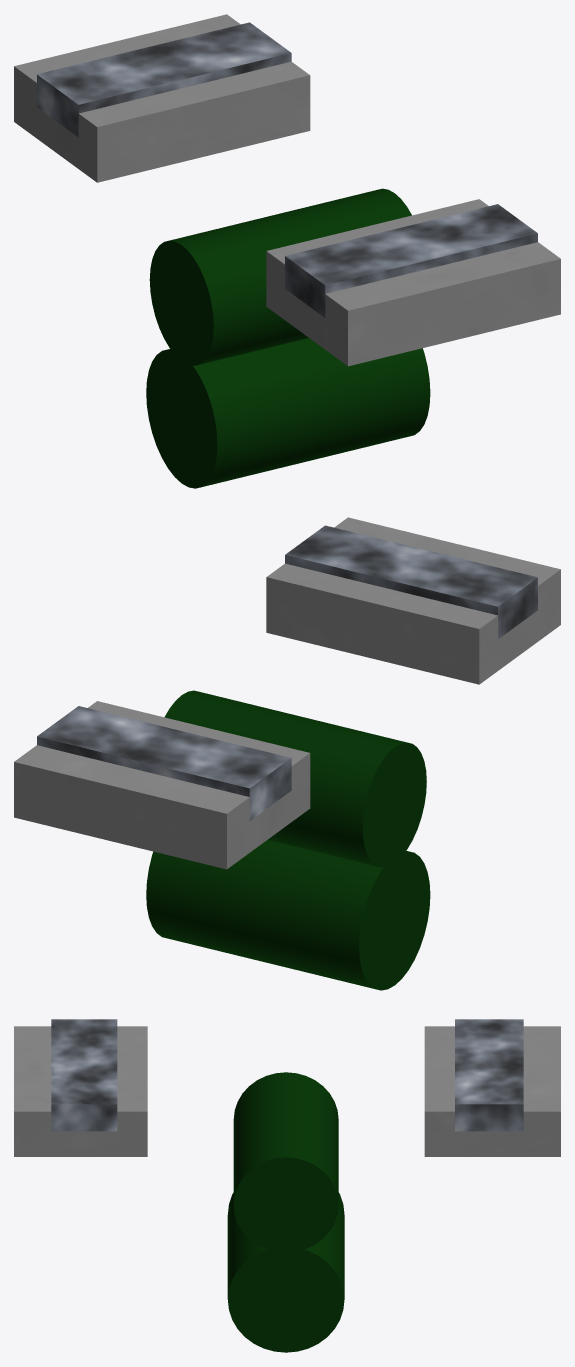
File: track_alt.obj
3 views of the same model, one above another, from view 1: azimuth 30°, elevation 25°; view 2: azimuth 150°, elevation 25°; view 3: azimuth 270°, elevation 25° (orthographic). The views are drawn at different scales.
Visible parts, largest first — view 1: Center, Large_Spine, Track_Alt, Small_Spine; view 2: Center, Large_Spine, Track_Alt, Small_Spine; view 3: Center, Small_Spine, Track_Alt, Large_Spine.
Boxes of the visible parts, bbox=[...] form: Center: bbox=[14, 14, 560, 366]; Large_Spine: bbox=[146, 338, 430, 488]; Track_Alt: bbox=[37, 22, 537, 317]; Small_Spine: bbox=[149, 188, 411, 365]; Center: bbox=[14, 517, 560, 869]; Large_Spine: bbox=[146, 840, 430, 990]; Track_Alt: bbox=[37, 525, 537, 820]; Small_Spine: bbox=[164, 690, 426, 867]; Center: bbox=[14, 1026, 560, 1156]; Small_Spine: bbox=[233, 1072, 338, 1252]; Track_Alt: bbox=[51, 1019, 523, 1131]; Large_Spine: bbox=[227, 1192, 344, 1352].
Bounding box in the file's own units: 0.759 × 1.03 × 2.06.
